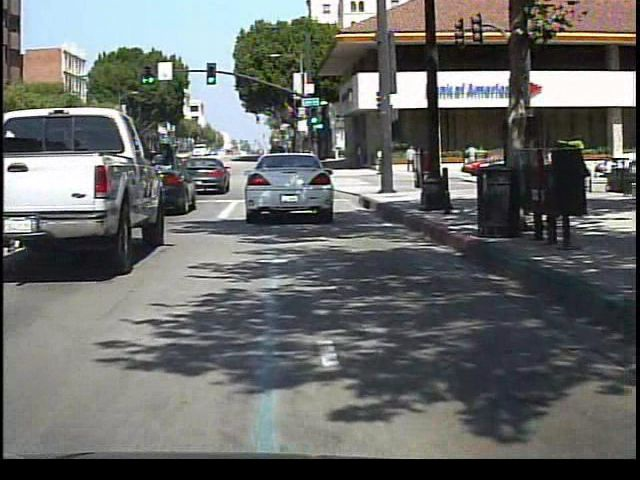person: (461, 139, 481, 173), (403, 142, 420, 175)
